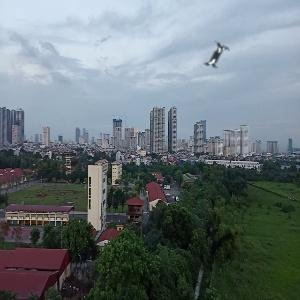drone: (172, 10, 264, 102)
